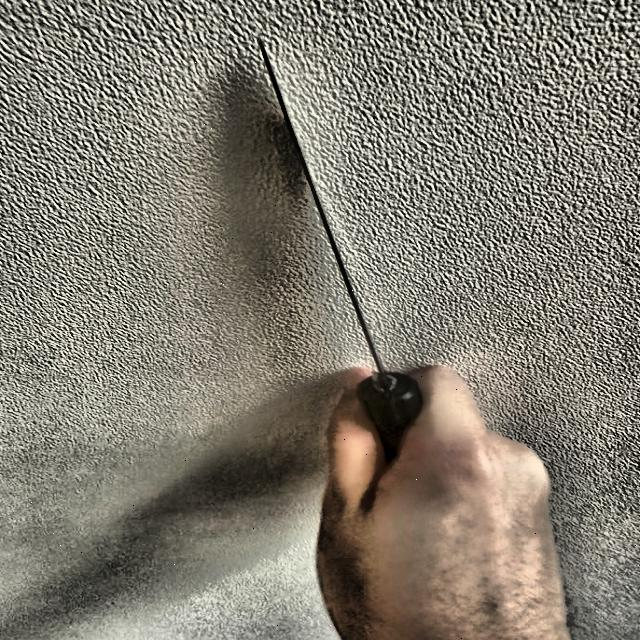knife: (255, 34, 430, 471)
